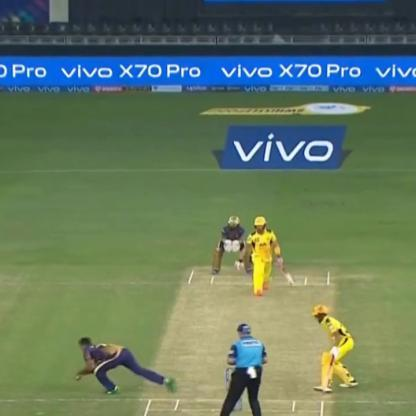ball: (73, 372, 89, 383)
pitch: (139, 266, 332, 412)
